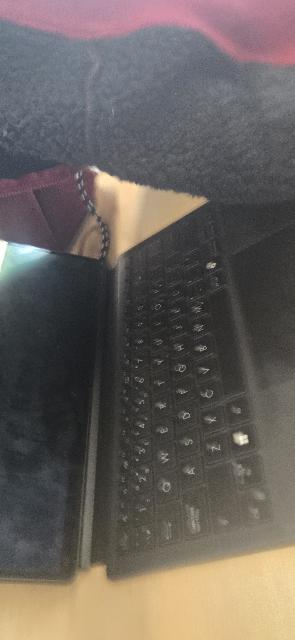Keyboard: (116, 216, 271, 559)
